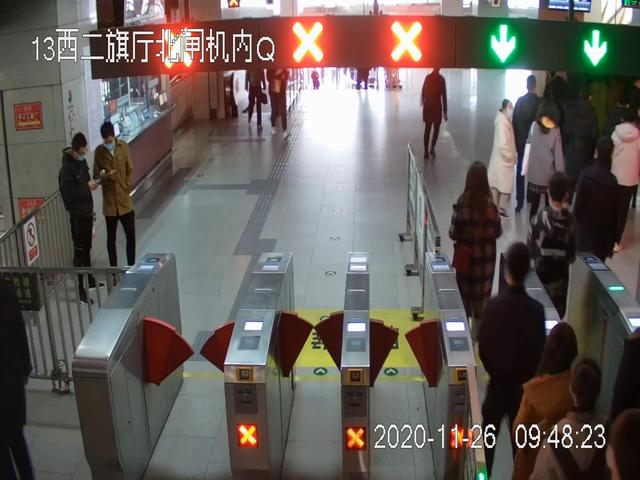person: (478, 243, 546, 480), (512, 323, 592, 480), (450, 162, 503, 348), (527, 172, 578, 339), (58, 133, 103, 304), (93, 122, 139, 278), (598, 108, 640, 252), (521, 98, 566, 224), (485, 100, 519, 220), (420, 65, 449, 160), (267, 67, 290, 140), (244, 66, 264, 132)
